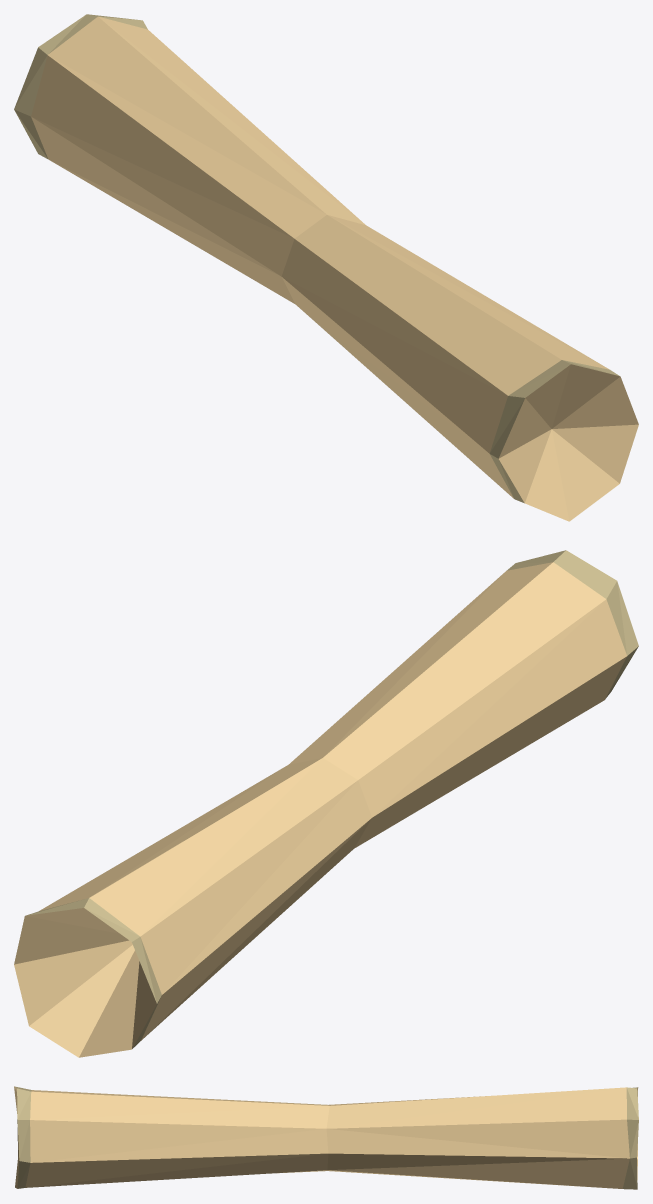
The model's file is SFM_AP_Scroll_002.fbx.
3 views of the same model, one above another, from view 1: azimuth 30°, elevation 25°; view 2: azimuth 150°, elevation 25°; view 3: azimuth 270°, elevation 25° (orthographic). The views are drawn at different scales.
Parts seen in each view (by area): view 1: SFM_AP_Scroll_002; view 2: SFM_AP_Scroll_002; view 3: SFM_AP_Scroll_002.
Boxes of the visible parts, x1,y1,x2,y2 form: SFM_AP_Scroll_002: (14,14,638,521); SFM_AP_Scroll_002: (14,550,638,1057); SFM_AP_Scroll_002: (14,1086,638,1189).
Size of the model in its own units: 7.83 by 7.96 by 44.56.
